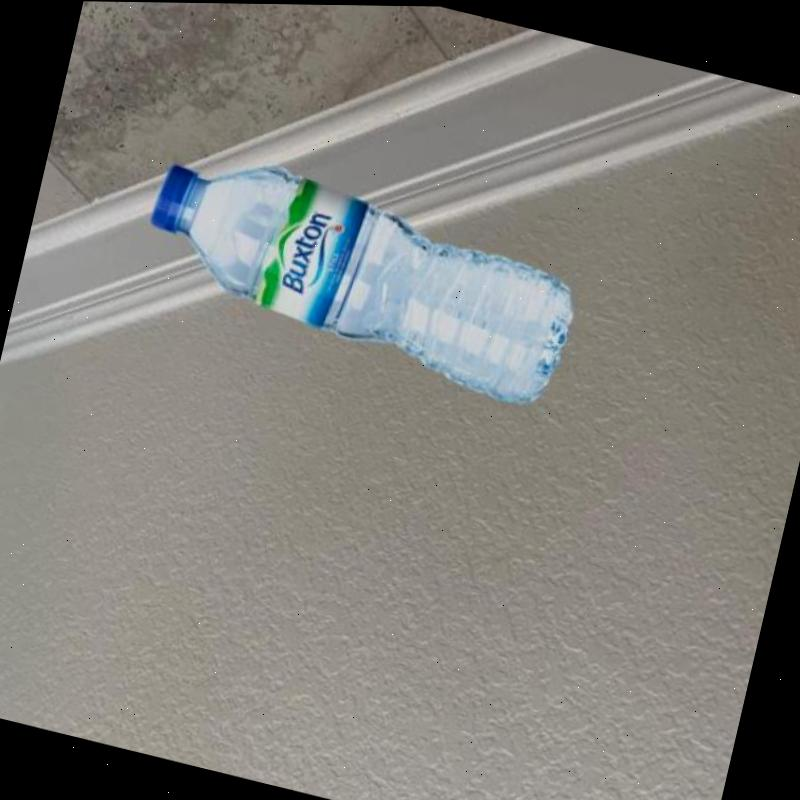botella: (128, 138, 592, 410)
